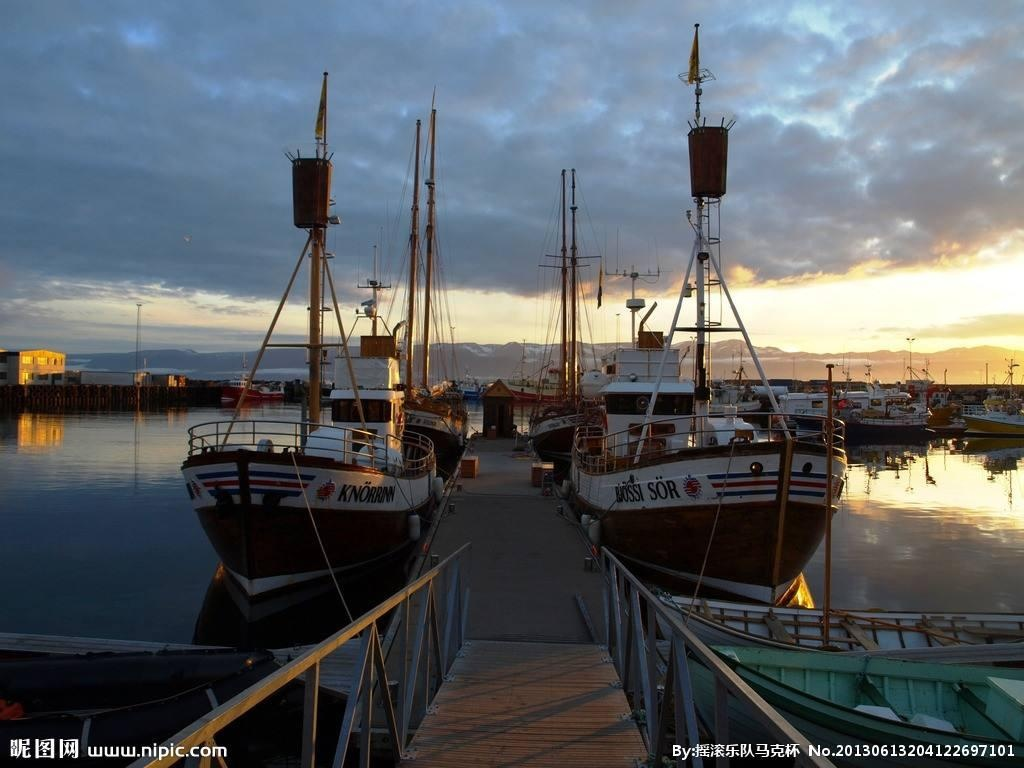otherboat: (561, 398, 888, 606), (176, 343, 432, 589)
